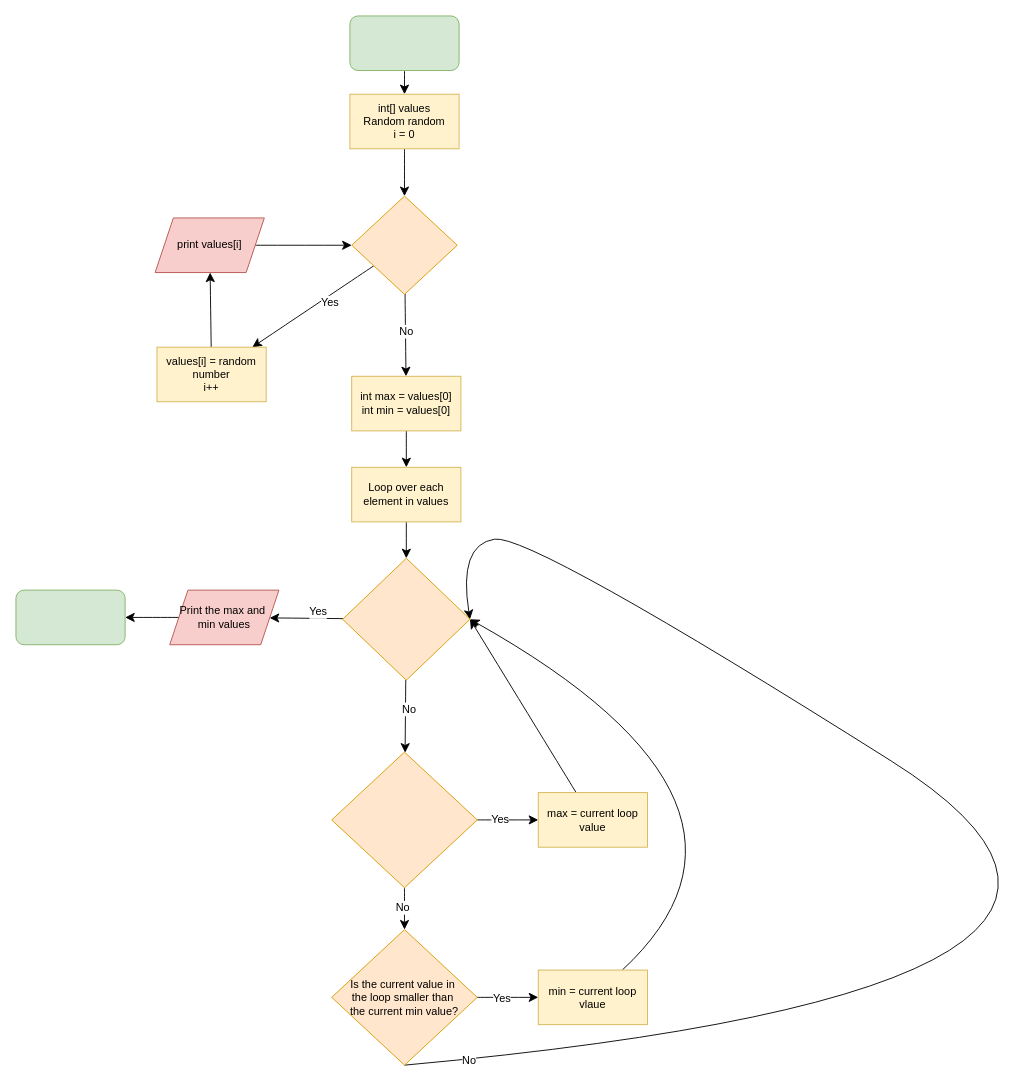
Some shapes in this 1015 by 1083 pixel diagram are drawn without their labels. The centre of each missing label's shape, as x and y in pixels:
"Exit" belongs at point (70, 617).
"Has values been fully iterated through?" belongs at point (406, 618).
"i < values.length" belongs at point (404, 244).
"Is the current value in the loop greater than the current max value?" belongs at point (404, 819).
"Start" belongs at point (404, 43).
